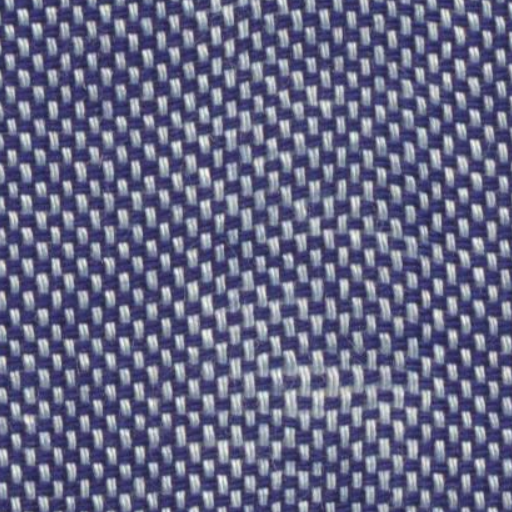TuoSha: (172, 14, 458, 482)
